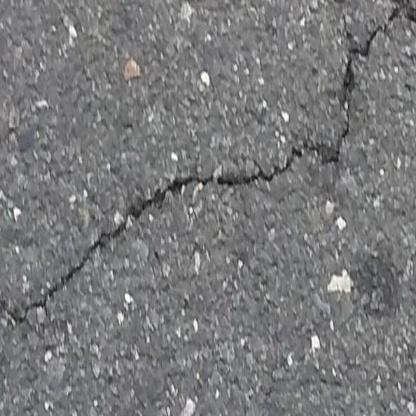Cracks: (0, 0, 416, 329), (324, 0, 348, 12)
